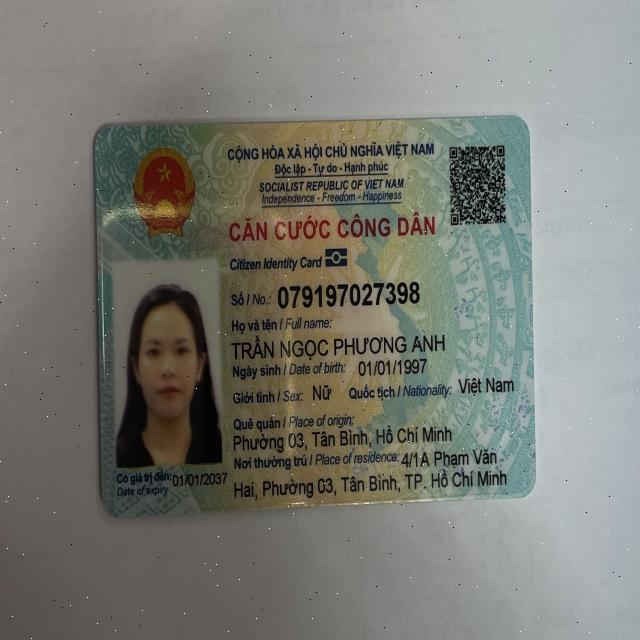current_place: (232, 468, 511, 500), (400, 448, 497, 468)
dob: (356, 359, 429, 373)
expire_date: (170, 469, 231, 491)
gender: (310, 378, 340, 401)
id: (276, 281, 422, 309)
name: (231, 333, 448, 359)
nationality: (457, 373, 514, 397)
origin_place: (232, 423, 454, 453)
qr: (444, 142, 514, 233)
